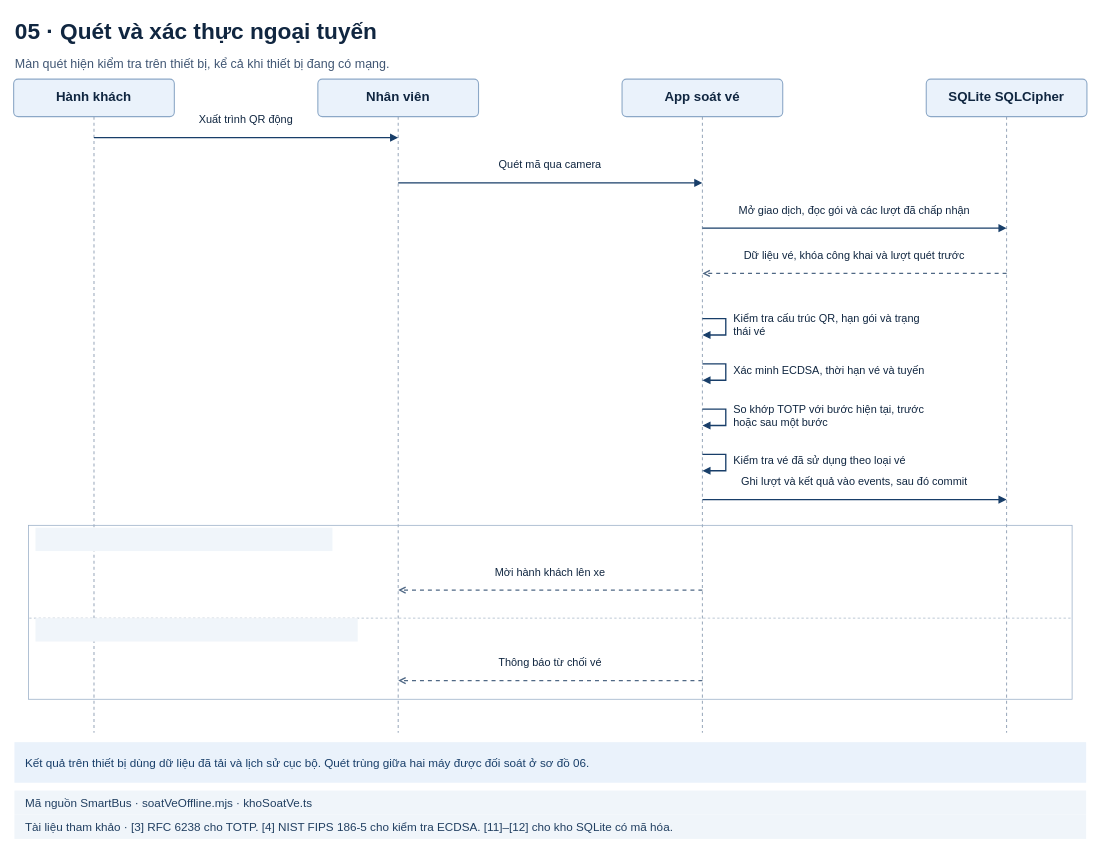
Image size: 1101x852. Some labels were removed from this diagram. The centre of each missing label's shape, as x and y in pixels:
"alt · Hợp lệ · Hiện thông báo và phát âm hợp lệ" belongs at (x=183, y=539).
"else · Không hợp lệ · Hiện lý do và phát âm từ chối" belongs at (x=196, y=629).
